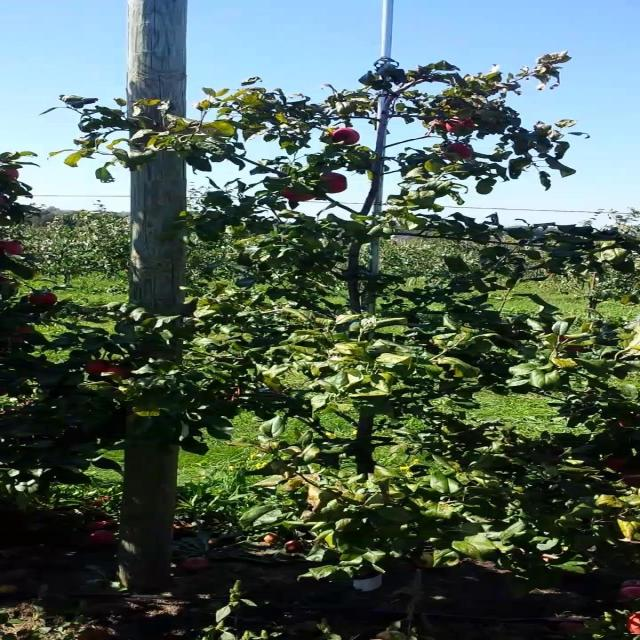apple: (6, 324, 39, 347), (554, 336, 596, 353), (326, 128, 363, 147), (284, 184, 318, 204), (319, 172, 348, 195), (106, 364, 137, 383), (611, 412, 639, 431), (604, 456, 635, 473), (28, 292, 60, 308), (84, 360, 112, 378), (447, 116, 476, 133), (6, 332, 37, 347), (447, 144, 476, 160), (6, 240, 28, 256), (426, 116, 448, 131), (6, 168, 21, 183), (625, 472, 639, 487)
